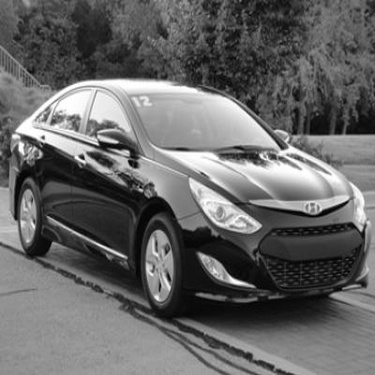car: (9, 76, 369, 319)
